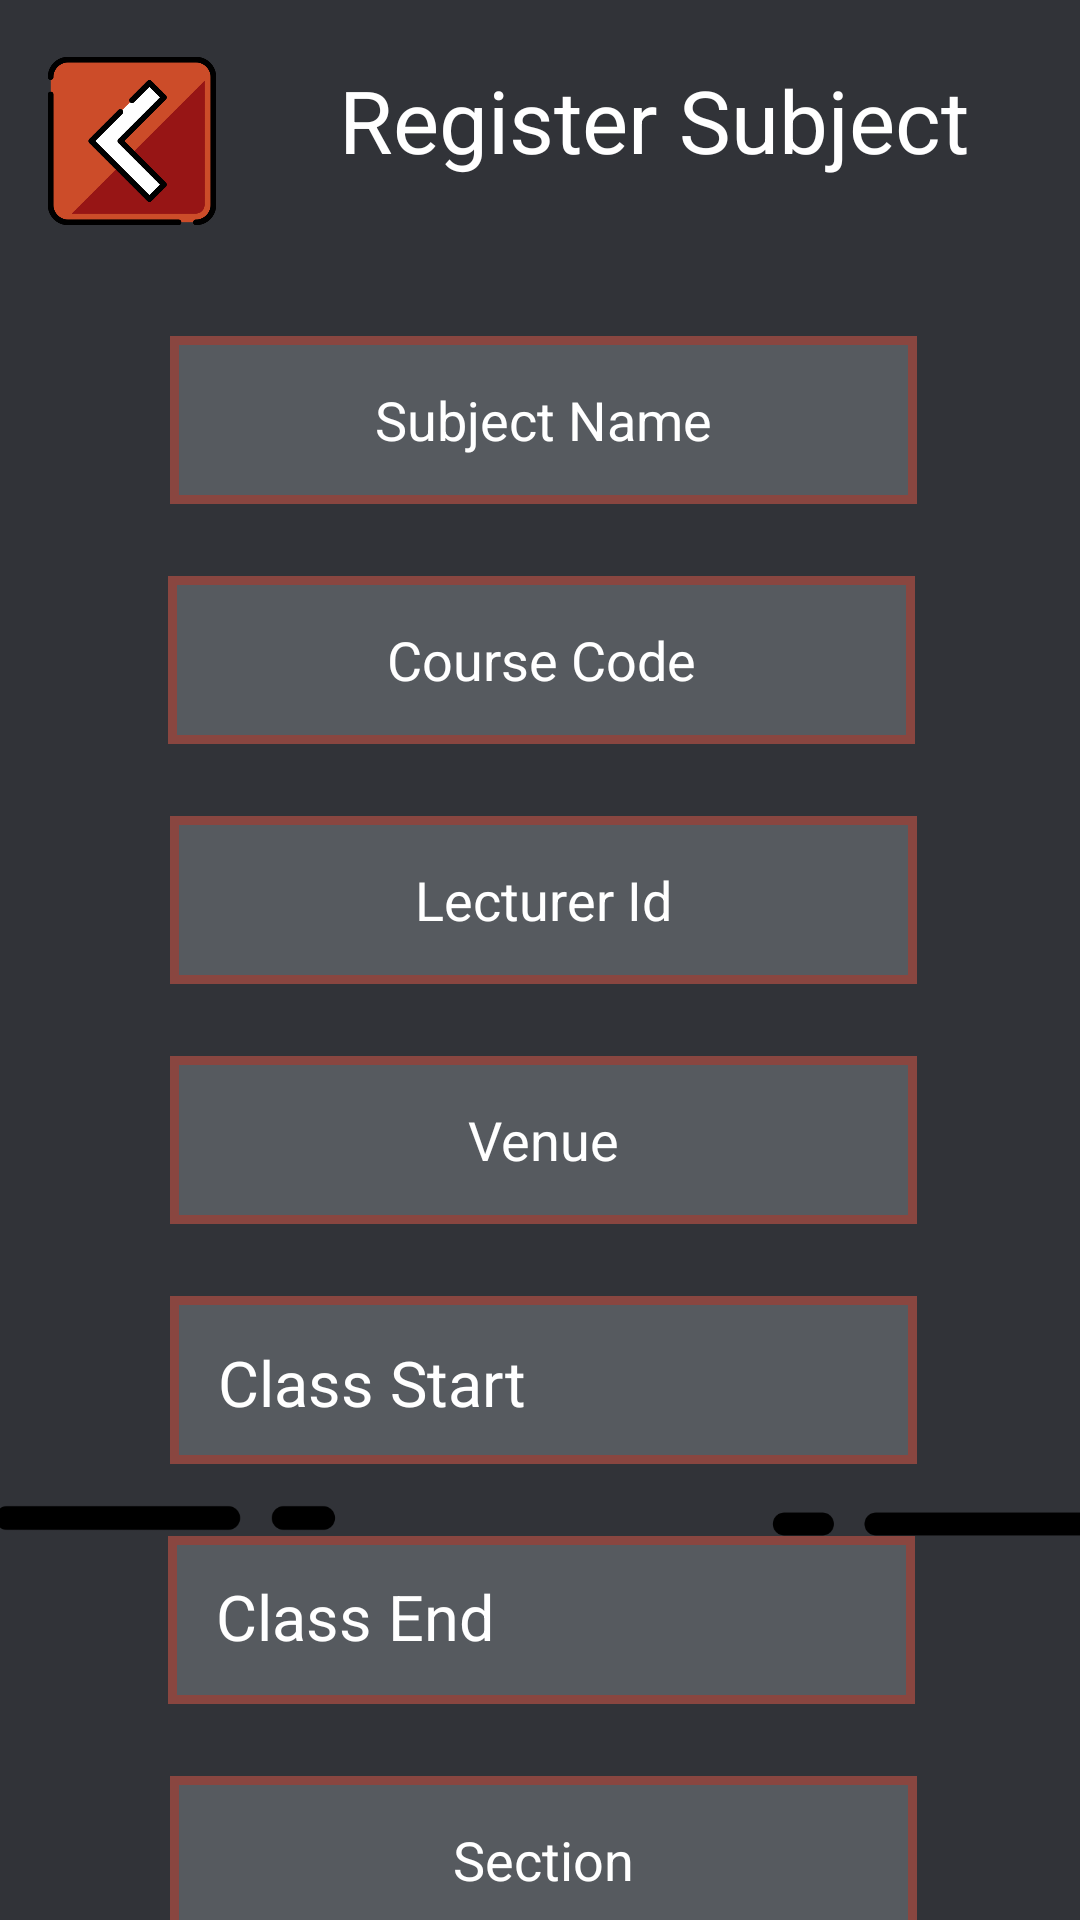

Screen size 1080 x 1920. Icon name, then its center in pixels as [x,y]:
backbutton: [132,141]
